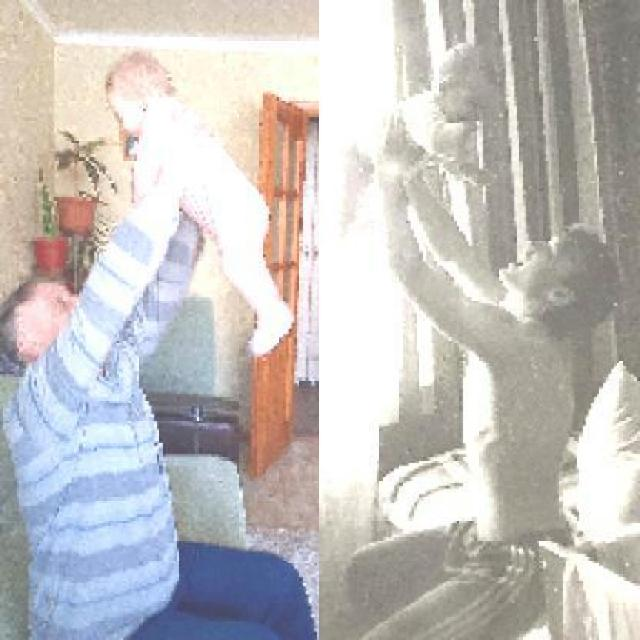child: (103, 46, 300, 354), (332, 41, 502, 276)
